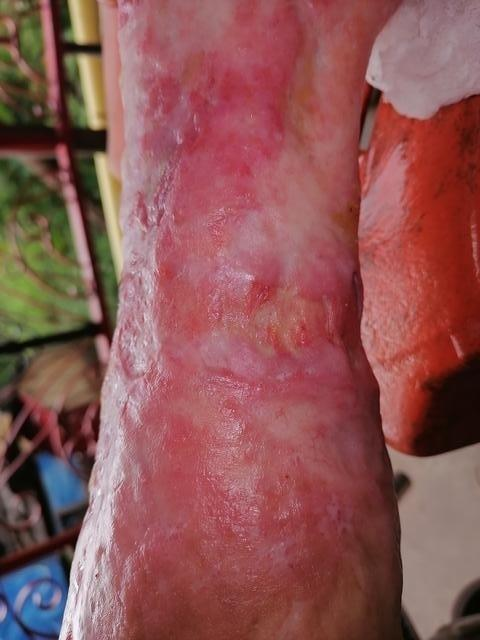wound: (80, 19, 392, 573)
